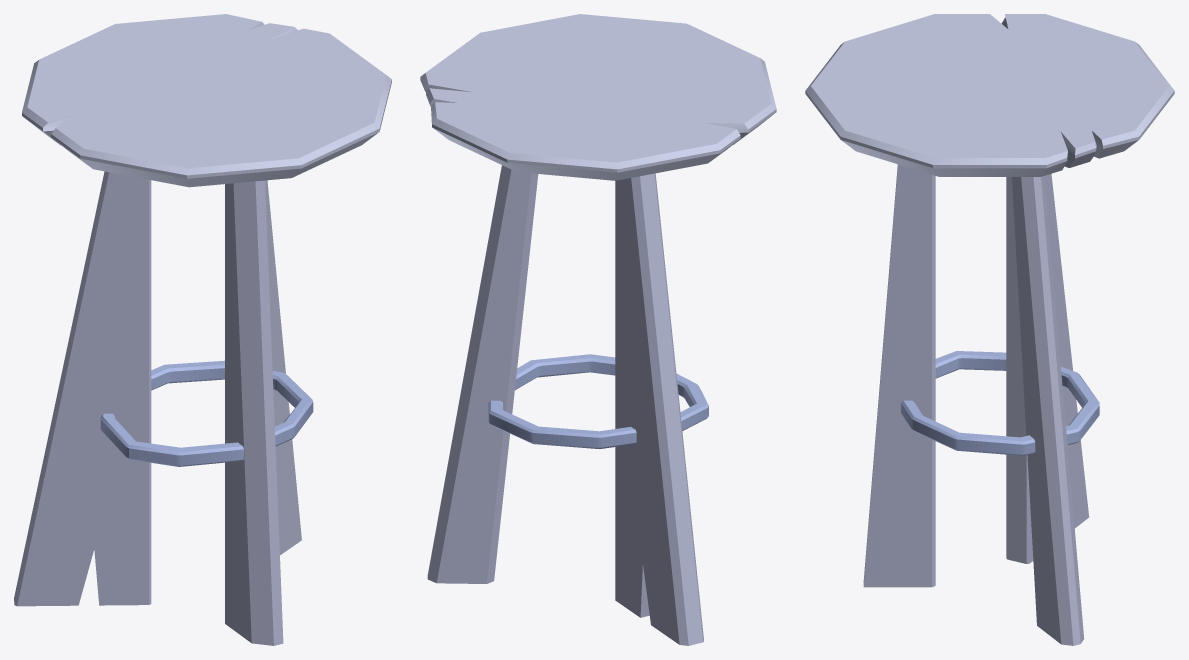
Rendered from HighTable.fbx.
3 renders of one model, left to right at view 1: azimuth 30°, elevation 25°; view 2: azimuth 150°, elevation 25°; view 3: azimuth 270°, elevation 25°, orthographic. The views are drawn at different scales.
Visible parts, largest first — view 1: Cube.017, Cylinder.004, Cylinder.005; view 2: Cube.017, Cylinder.004, Cylinder.005; view 3: Cube.017, Cylinder.004, Cylinder.005.
Part boxes in pixels (x1,y1,x2,y2): Cube.017: (14, 171, 301, 645); Cylinder.004: (22, 14, 391, 187); Cylinder.005: (100, 360, 313, 466); Cube.017: (427, 165, 703, 645); Cylinder.004: (420, 14, 776, 180); Cylinder.005: (488, 354, 708, 448); Cube.017: (863, 164, 1089, 645); Cylinder.004: (805, 14, 1174, 176); Cylinder.005: (901, 351, 1099, 455).
Bounding box in the file's own units: 82.37 × 128 × 86.61.
